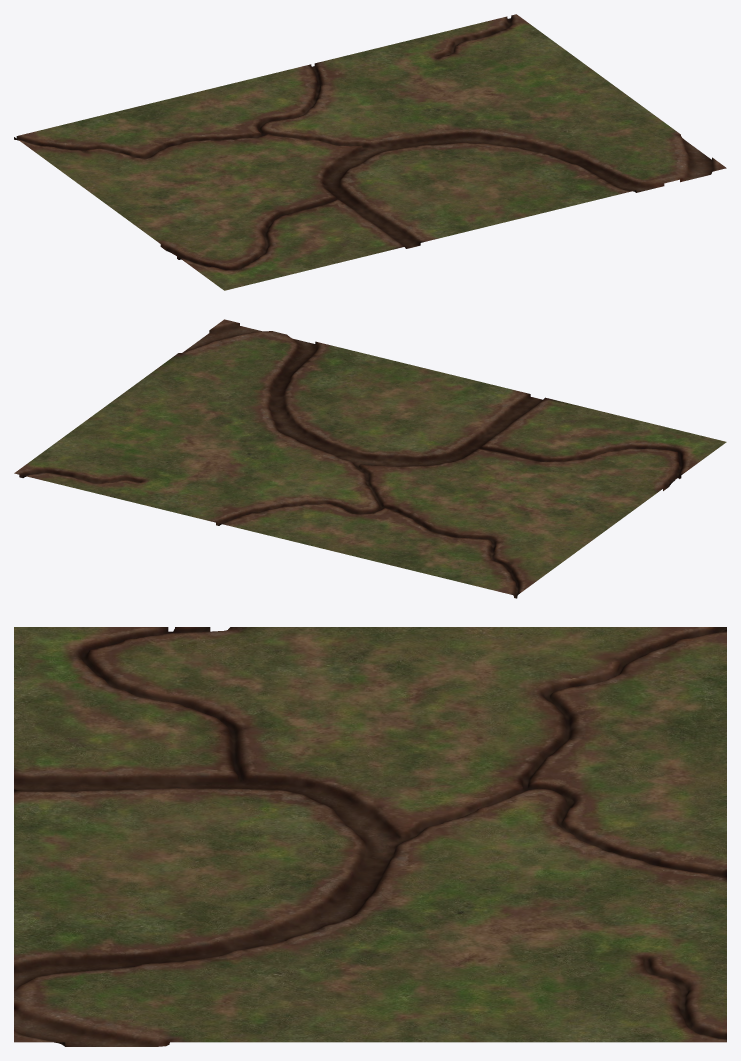
File: Peta_Wehoor.fbx
The picture shows the model from 3 angles, top to bottom: view 1: azimuth 30°, elevation 25°; view 2: azimuth 150°, elevation 25°; view 3: azimuth 270°, elevation 25°; orthographic projection. The views are drawn at different scales.
Parts seen in each view (by area): view 1: Peta_Wehoor; view 2: Peta_Wehoor; view 3: Peta_Wehoor.
Part boxes in pixels (x1=…): Peta_Wehoor: x1=14, y1=14, x2=726, y2=290; Peta_Wehoor: x1=14, y1=319, x2=726, y2=598; Peta_Wehoor: x1=14, y1=627, x2=726, y2=1046.
Bounding box in the file's own units: 4251 × 21.52 × 3083.
1 material, 1 textured.
